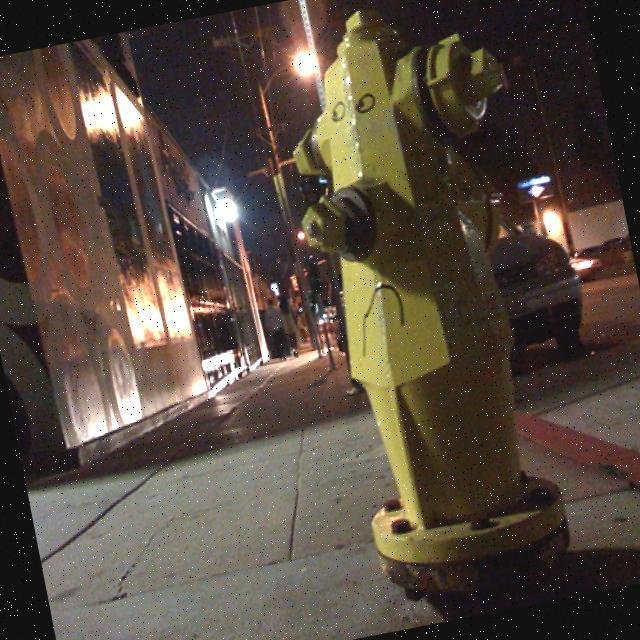fire_hydrant: (256, 0, 594, 608)
